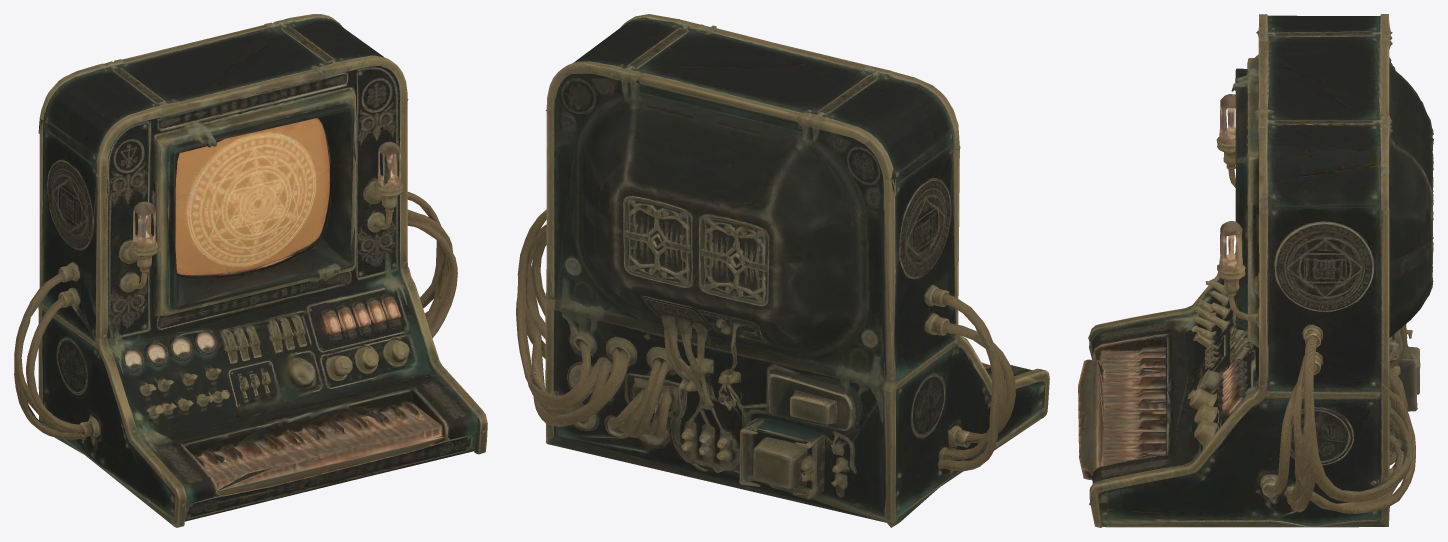
Rendered from consoleMV.glb.
3 renders of one model, left to right at view 1: azimuth 30°, elevation 25°; view 2: azimuth 150°, elevation 25°; view 3: azimuth 270°, elevation 25°, orthographic. The views are drawn at different scales.
Parts seen in each view (by area): view 1: Mesh_0; view 2: Mesh_0; view 3: Mesh_0.
Part boxes in pixels (x1,y1,x2,y2): Mesh_0: (14,14,487,527); Mesh_0: (516,14,1049,527); Mesh_0: (1078,14,1433,527).
Size of the model in its own units: 1.9 by 1.47 by 1.27.
1 material, 1 textured.
